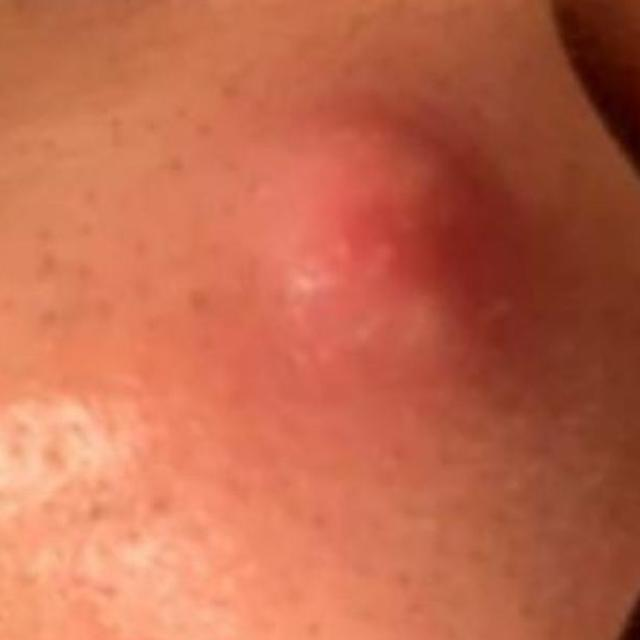nodule: (231, 58, 594, 452)
